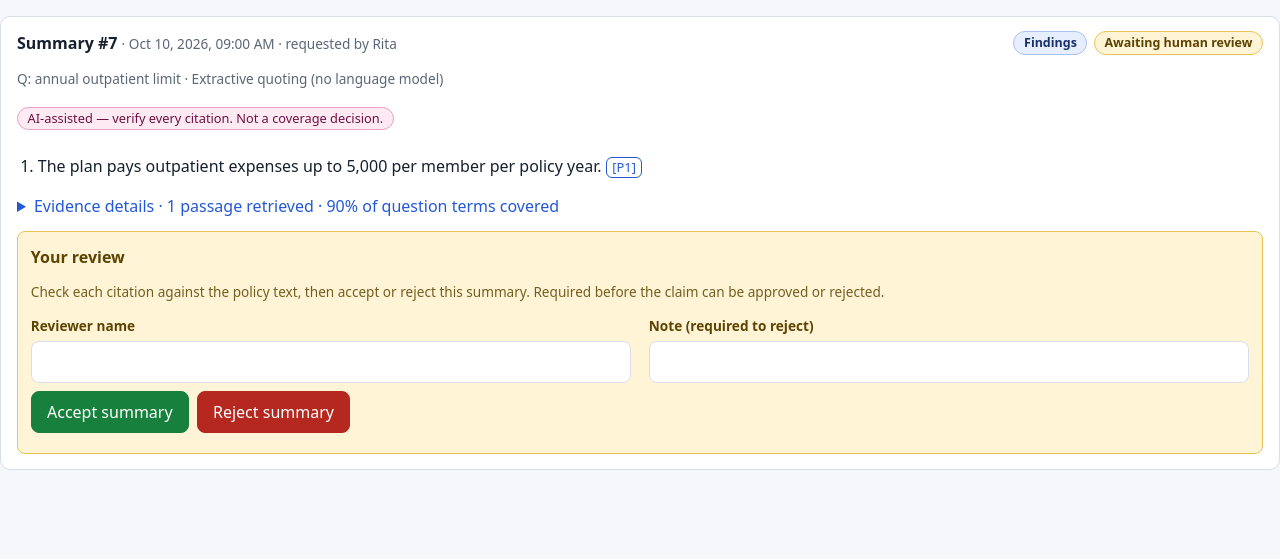
Test: SummaryCard › shows findings with citation chips that reveal the verbatim source with the quote highlighted
Expected: the text "AI-assisted — verify every citation" is shown, [28,109,383,127]
Expected: the text "Extractive quoting (no language model)" is shown, [192,69,443,88]
Click the button "[P1]": [624, 167] box [606,157,642,178]
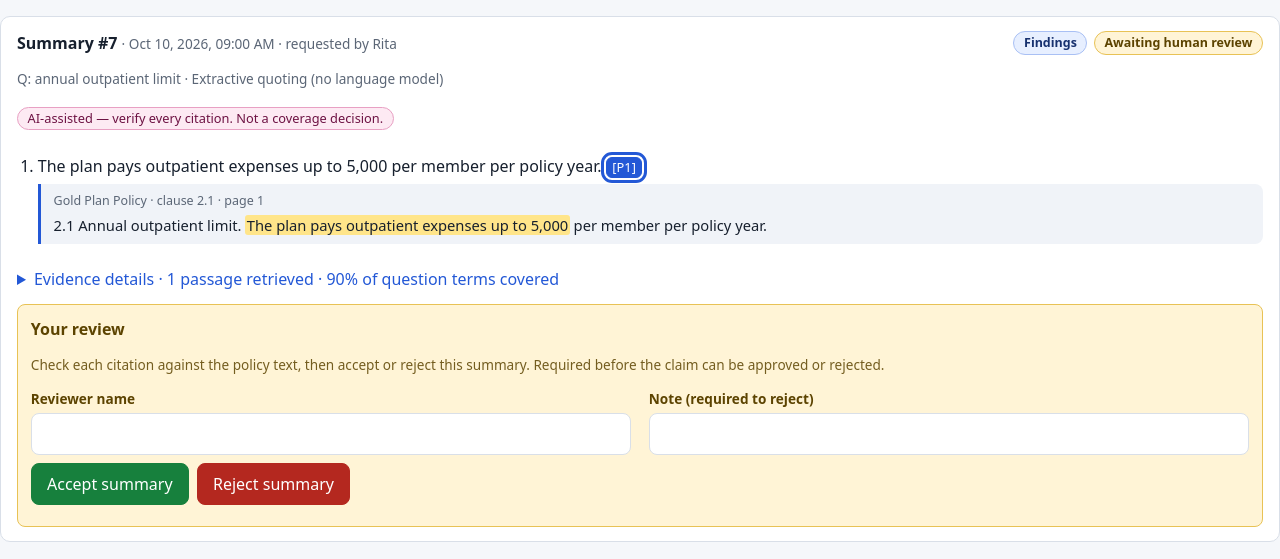
Expected: the text "Gold Plan Policy · clause 2.1 · page 1" is shown, [54,192,264,209]
